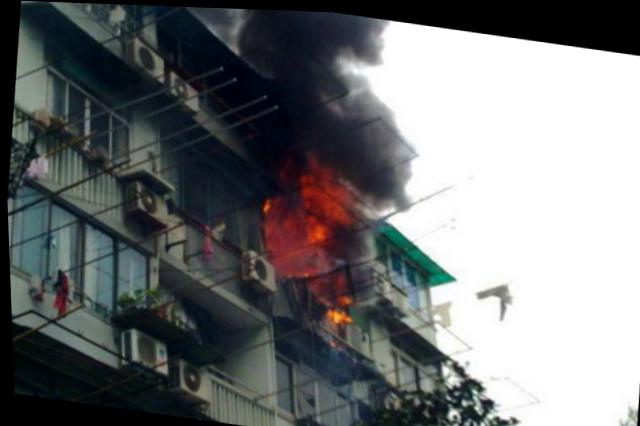fire: (256, 192, 334, 274), (294, 153, 357, 220), (315, 266, 349, 320)
